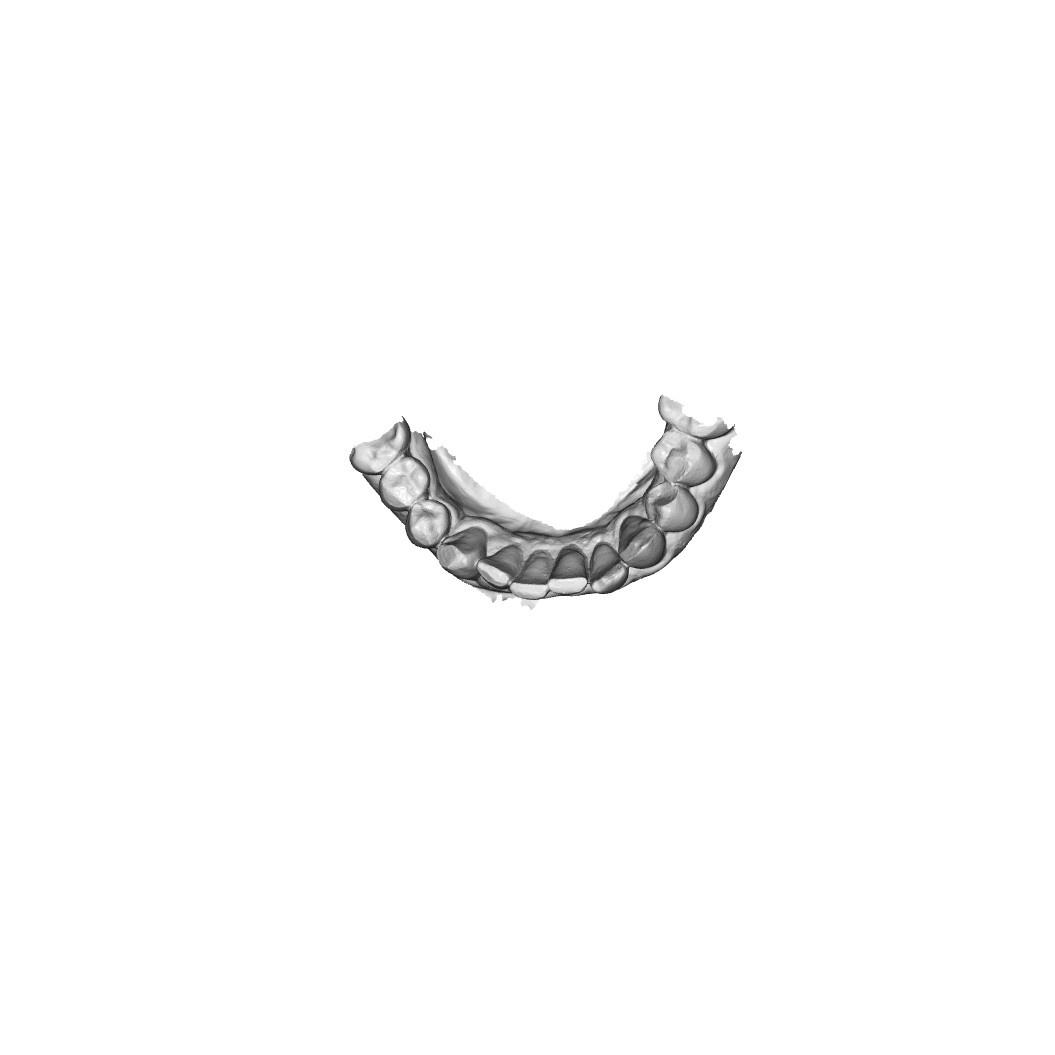canine: (436, 526, 487, 582), (618, 515, 666, 570)
incisor: (476, 544, 524, 590), (588, 542, 629, 594), (510, 551, 550, 600), (547, 549, 588, 596)
premolar: (650, 429, 717, 488), (378, 455, 431, 512), (644, 482, 699, 533), (404, 498, 452, 550)
